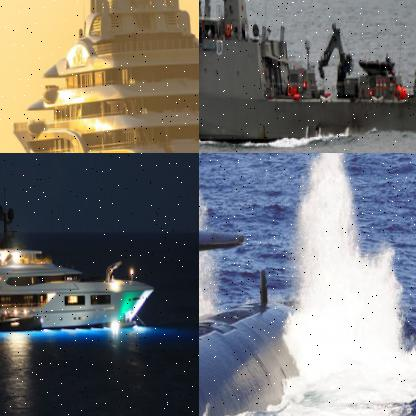Patrol Boat: (199, 0, 415, 153)
Submarine: (199, 153, 307, 415)
Yacht: (4, 0, 198, 152), (0, 180, 157, 336)
